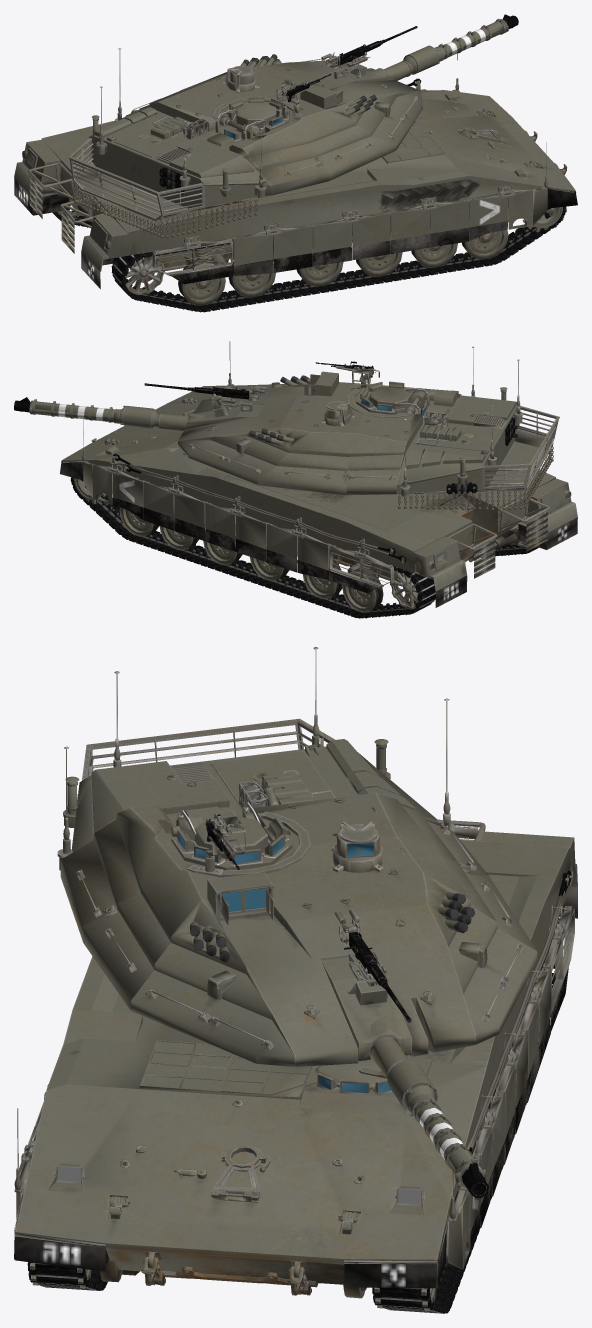
File: merkava4_arlassar.glb
3 renders of one model, top to bottom at view 1: azimuth 30°, elevation 25°; view 2: azimuth 150°, elevation 25°; view 3: azimuth 270°, elevation 25°, orthographic. The views are drawn at different scales.
Visible parts, largest first — view 1: Hull, Turret; view 2: Hull, Turret; view 3: Hull, Turret.
Boxes of the visible parts, box(x1,y1,x2,y2) form: Hull: box(14, 14, 577, 312); Turret: box(68, 46, 422, 222); Hull: box(14, 341, 577, 618); Turret: box(177, 359, 559, 505); Hull: box(14, 746, 577, 1313); Turret: box(60, 647, 537, 1066).
Size of the model in its own units: 9.04 by 3.44 by 4.88.
1 material, 1 textured.
